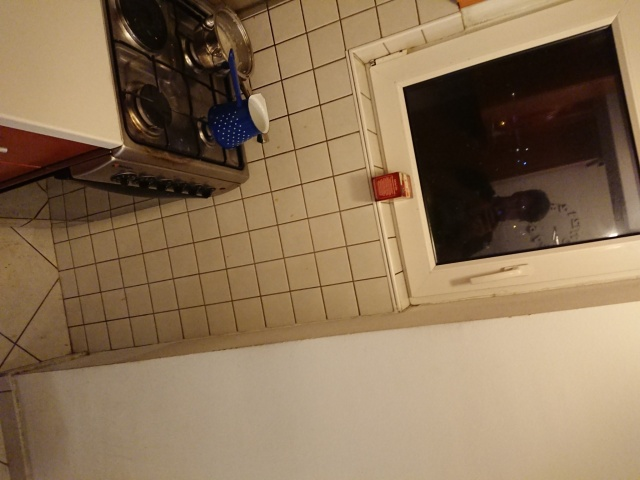Franck Apple Cinnamon Tea 60g: (368, 169, 415, 204)
